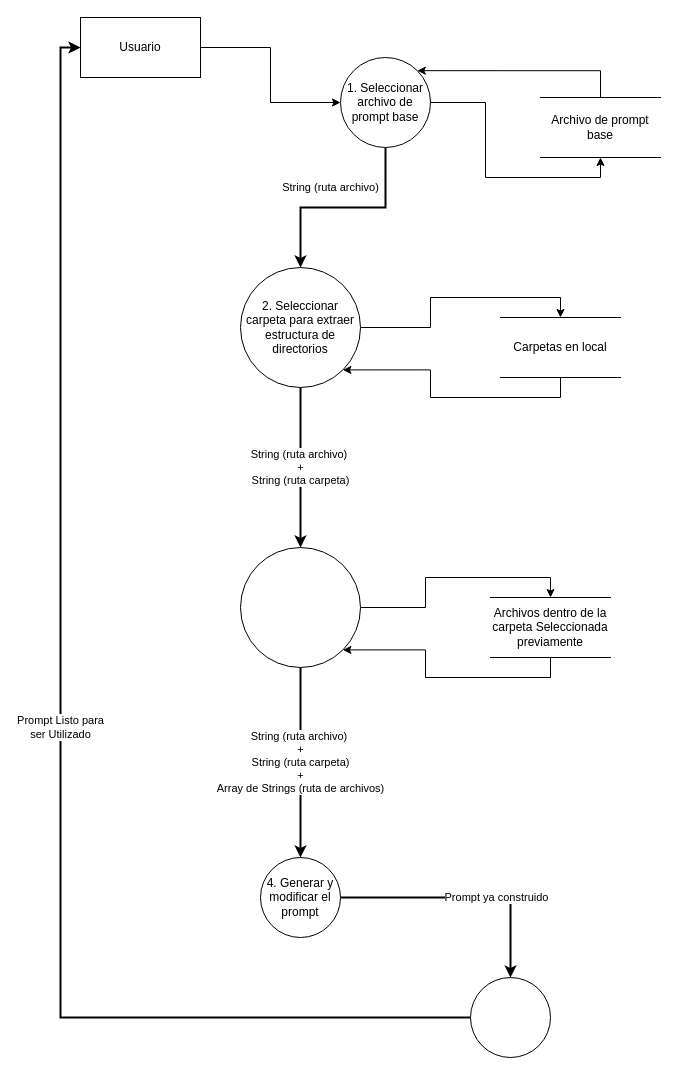
Some shapes in this 678 by 1075 pixel diagram are drawn without their labels. Here are the shapes that lost their labels. From the top down, the centre of each, then its label:
(x=300, y=607): 3. Seleccionar archivos especificos para generar el contexto
(x=510, y=1017): 5. Copiar el prompt al portapapeles
